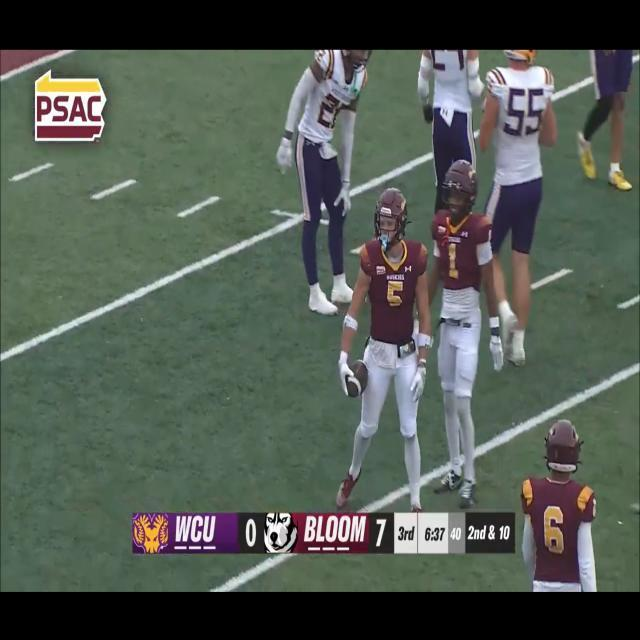football: (341, 358, 372, 400)
